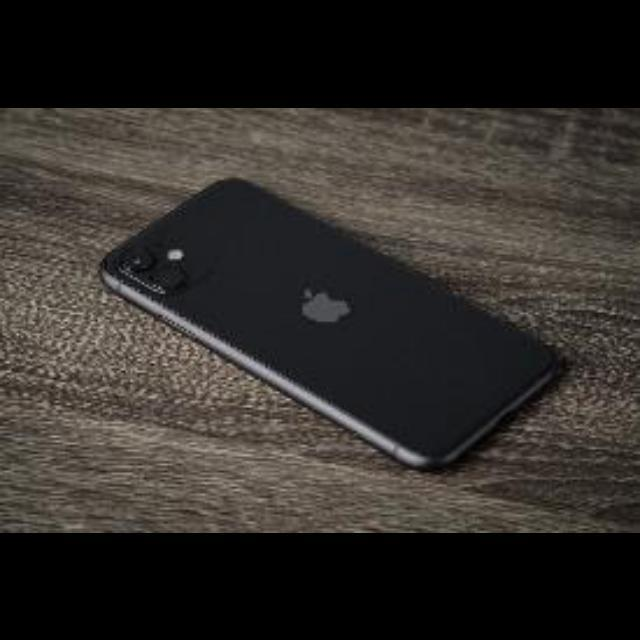phone: (51, 155, 631, 477)
